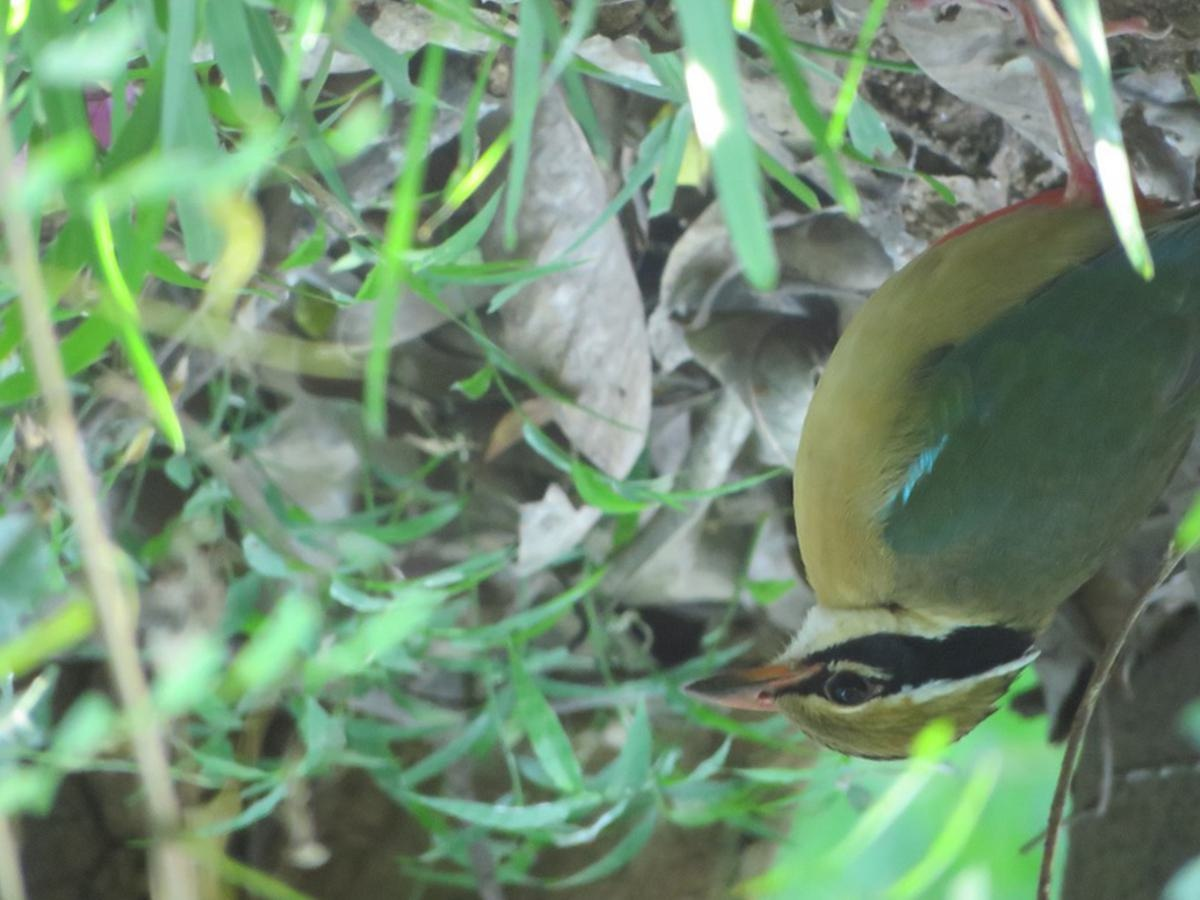pitta: (660, 174, 1197, 755)
